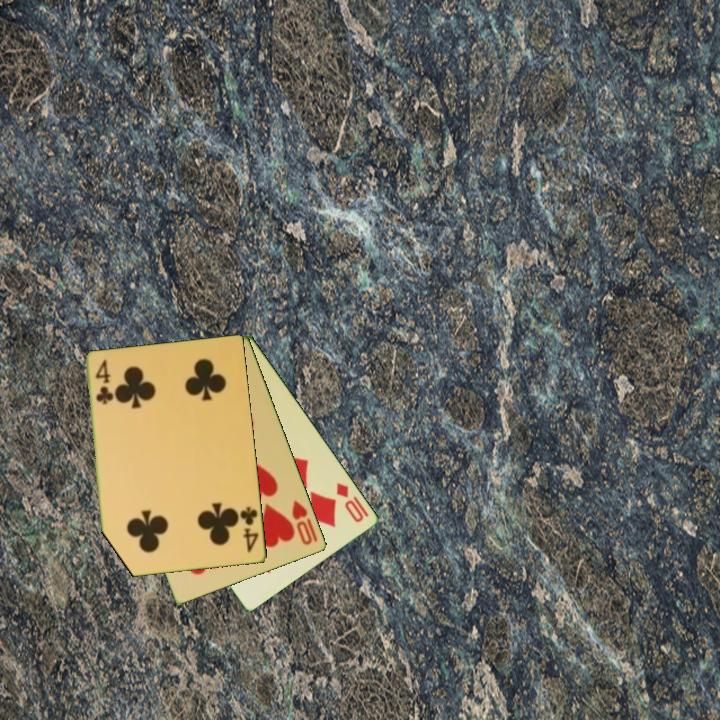10d: (333, 479, 372, 526)
10h: (289, 497, 321, 548)
4c: (237, 503, 262, 555), (92, 356, 114, 407)
